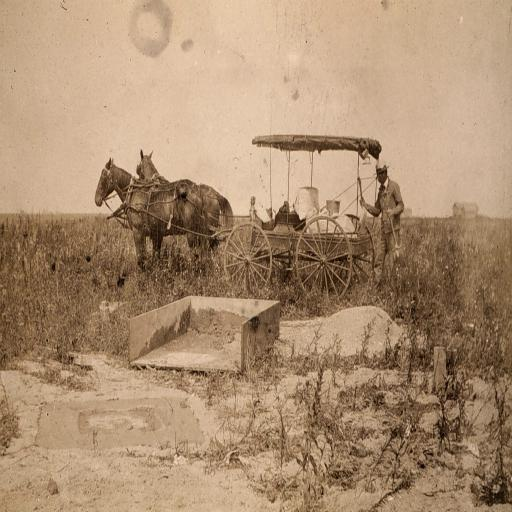Horse: (92, 153, 204, 278), (132, 147, 234, 257)
